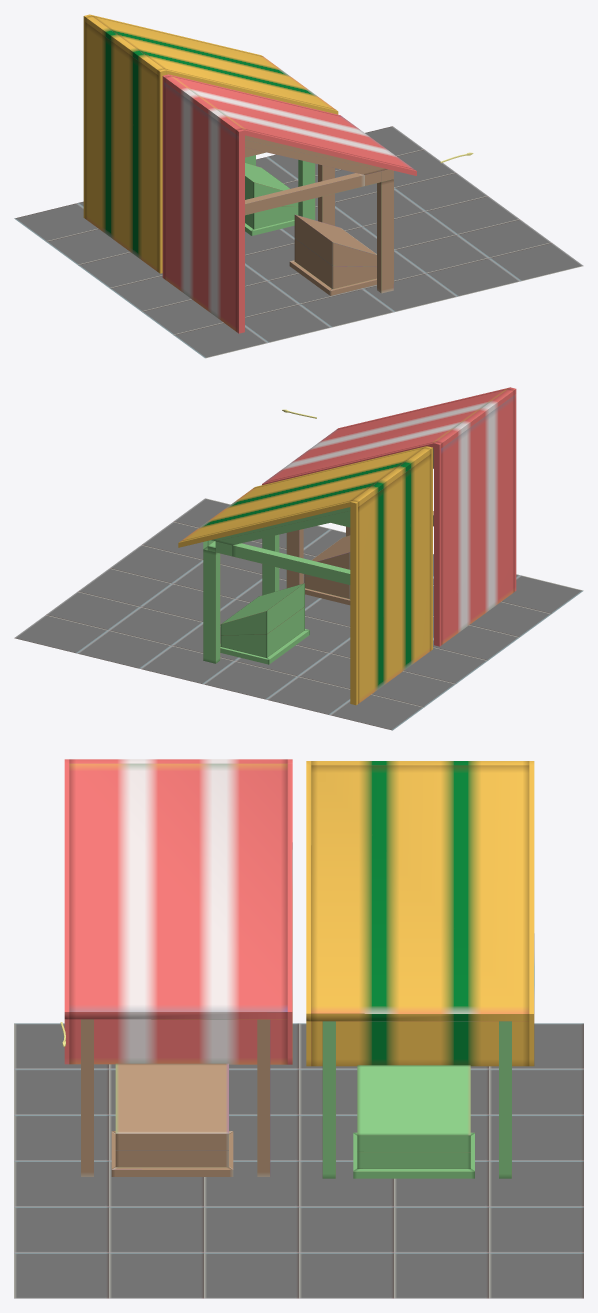
The model's file is Market Cap.fbx.
3 renders of one model, top to bottom at view 1: azimuth 30°, elevation 25°; view 2: azimuth 150°, elevation 25°; view 3: azimuth 270°, elevation 25°, orthographic. The views are drawn at different scales.
Visible parts, largest first — view 1: Market Stalls; view 2: Market Stalls; view 3: Market Stalls.
Part boxes in pixels (bbox=[...]): Market Stalls: bbox=[14, 14, 583, 358]; Market Stalls: bbox=[14, 387, 583, 730]; Market Stalls: bbox=[14, 759, 583, 1298].
Bounding box in the file's own units: 88.81 × 45.56 × 77.64.
